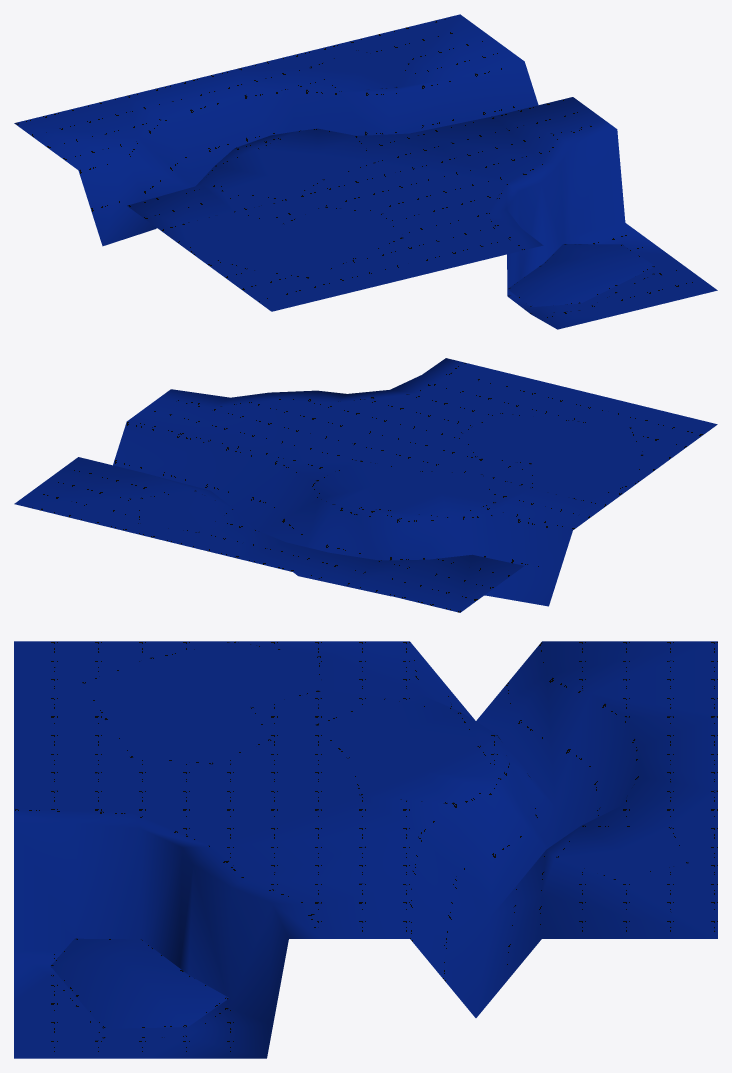
Rendered from GRD_S_C4_R2_1.fbx.
3 renders of one model, top to bottom at view 1: azimuth 30°, elevation 25°; view 2: azimuth 150°, elevation 25°; view 3: azimuth 270°, elevation 25°, orthographic. The views are drawn at different scales.
Parts seen in each view (by area): view 1: material_00022000, material_C0042000, material_C0032000, material_00052000, material_C0012000, material_C0062000; view 2: material_00022000, material_C0042000, material_C0032000, material_00052000; view 3: material_00022000, material_C0042000, material_C0032000, material_00052000, material_C0012000, material_C0062000.
Part boxes in pixels (x1,y1,x2,y2): material_00022000: (14,14,717,329); material_C0042000: (78,61,538,246); material_C0032000: (181,49,409,278); material_00052000: (485,120,625,295); material_C0012000: (507,244,655,307); material_C0062000: (508,269,655,314); material_00022000: (14,363,717,612); material_C0042000: (113,421,572,606); material_C0032000: (138,412,643,532); material_00052000: (159,358,466,407); material_00022000: (14,641,717,1058); material_C0042000: (410,642,638,1017); material_C0032000: (80,641,690,880); material_00052000: (14,808,321,1057); material_C0012000: (50,938,229,1028); material_C0062000: (50,971,228,1038).
Bounding box in the file's own units: 12800 × 2400 × 12800.
